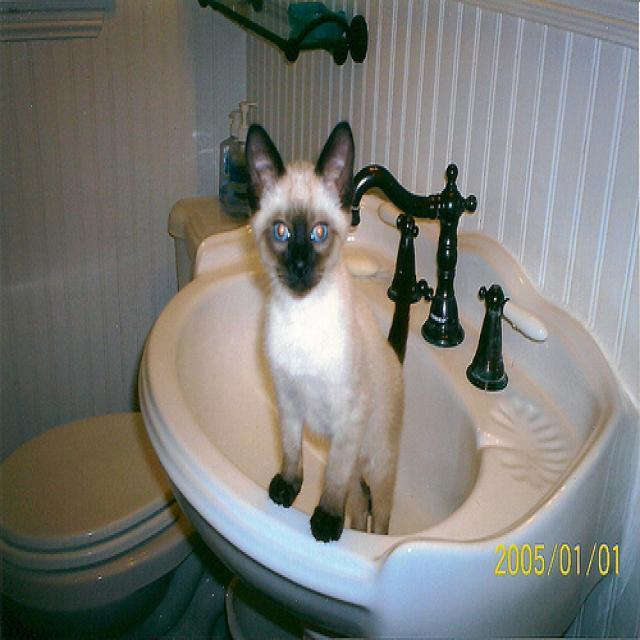Siamese: (243, 119, 353, 296)
